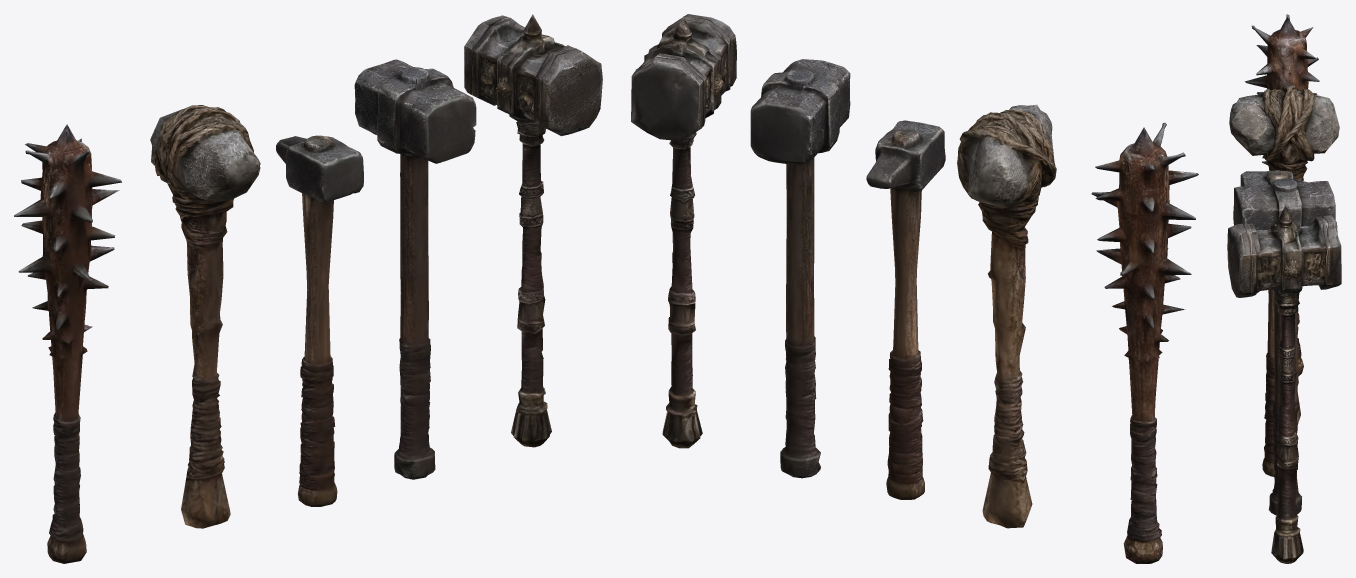
File: weapons_hammers_big.glb
The picture shows the model from 3 angles, left to right: view 1: azimuth 30°, elevation 25°; view 2: azimuth 150°, elevation 25°; view 3: azimuth 270°, elevation 25°; orthographic projection. The views are drawn at different scales.
Parts seen in each view (by area): view 1: club_stone, hammer_maul, hammer_sledge, club_spiked, hammer_smith; view 2: club_stone, club_spiked, hammer_sledge, hammer_maul, hammer_smith; view 3: hammer_maul, club_stone, hammer_sledge, club_spiked, hammer_smith.
Part boxes in pixels (left/top/right/bottom): club_stone: left=150, top=105, right=260, bottom=528; hammer_maul: left=464, top=14, right=602, bottom=447; hammer_sledge: left=354, top=59, right=476, bottom=479; club_spiked: left=14, top=124, right=121, bottom=563; hammer_smith: left=276, top=135, right=363, bottom=506; club_stone: left=957, top=104, right=1056, bottom=528; club_spiked: left=1091, top=122, right=1198, bottom=563; hammer_sledge: left=750, top=59, right=850, bottom=478; hammer_maul: left=631, top=14, right=736, bottom=448; hammer_smith: left=866, top=120, right=945, bottom=499; hammer_maul: left=1227, top=206, right=1341, bottom=563; club_stone: left=1229, top=84, right=1339, bottom=424; hammer_sledge: left=1233, top=178, right=1335, bottom=515; club_spiked: left=1245, top=14, right=1319, bottom=376; hammer_smith: left=1240, top=170, right=1306, bottom=476.
Bounding box in the file's own units: 0.8428 × 0.6238 × 0.1809.
Materials: 1 (1 with a texture image).
